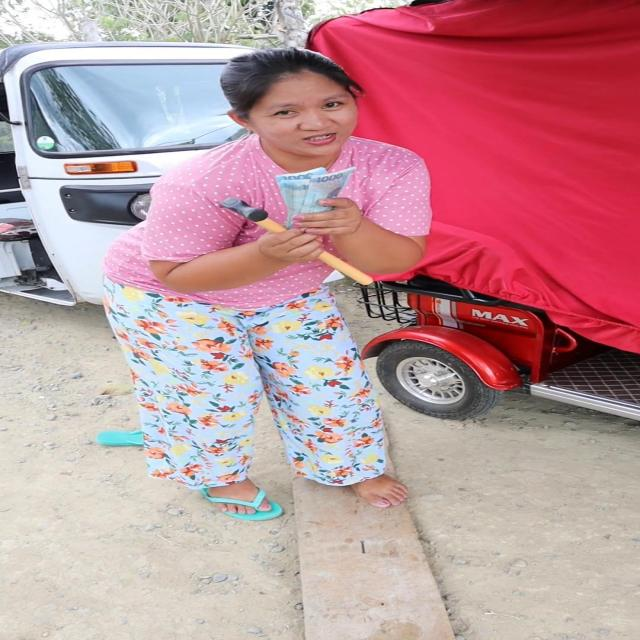hammer: (219, 196, 376, 286)
